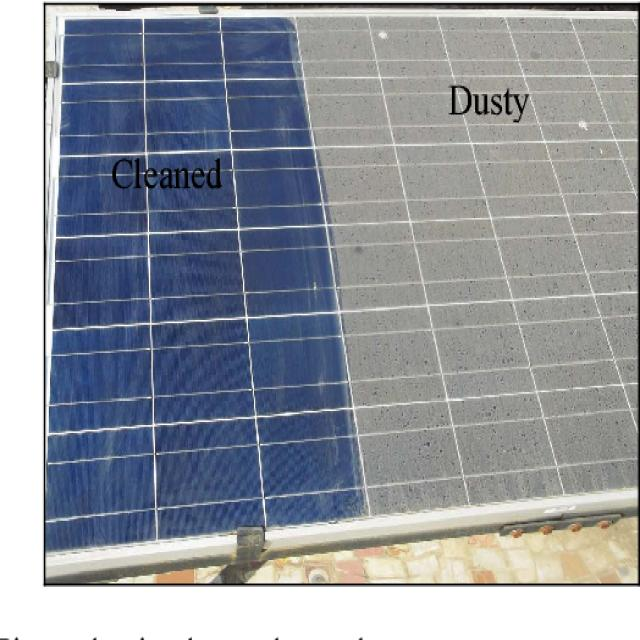dust-solar-panel: (298, 13, 640, 528)
